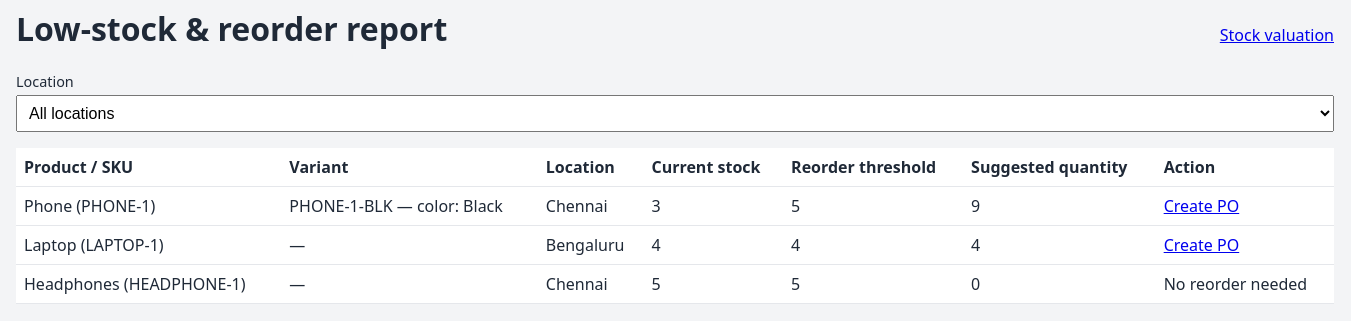
Scenario: low-stock report filters locations and links a prefilled PO
The width and height of the screenshot is (1351, 321).
Expected: the text "PHONE-1-BLK — color: Black" is shown, [281,187,538,225]
Expected: the text "9" is shown, [963,187,1156,225]
Select "Chennai" in the dropdown labelled "Location": point(675, 113) [16,95,1334,132]
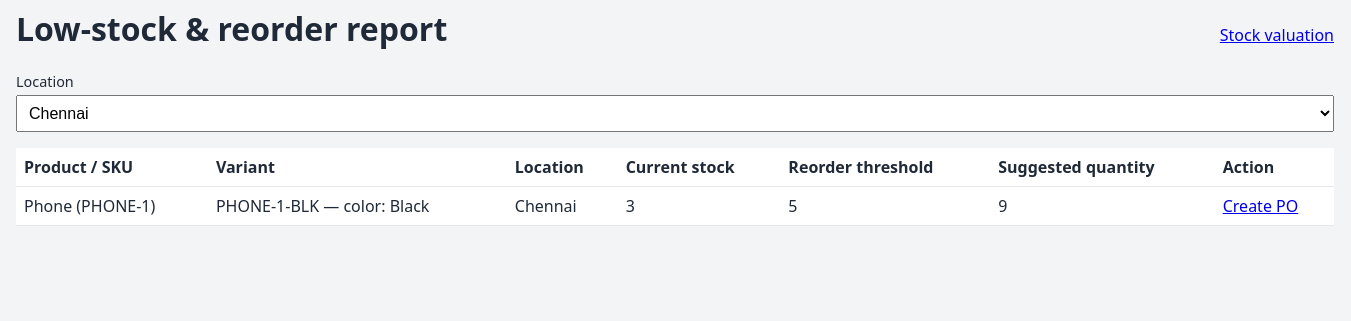
Now the text "LAPTOP-1" is gone
